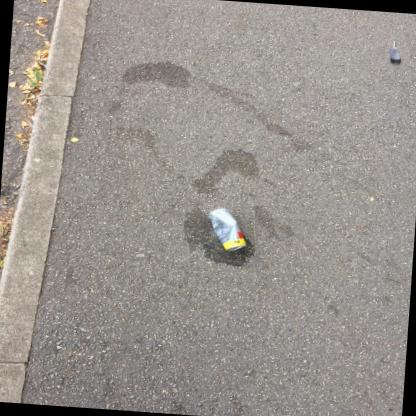Metal: (209, 209, 247, 251), (232, 246, 240, 251)
